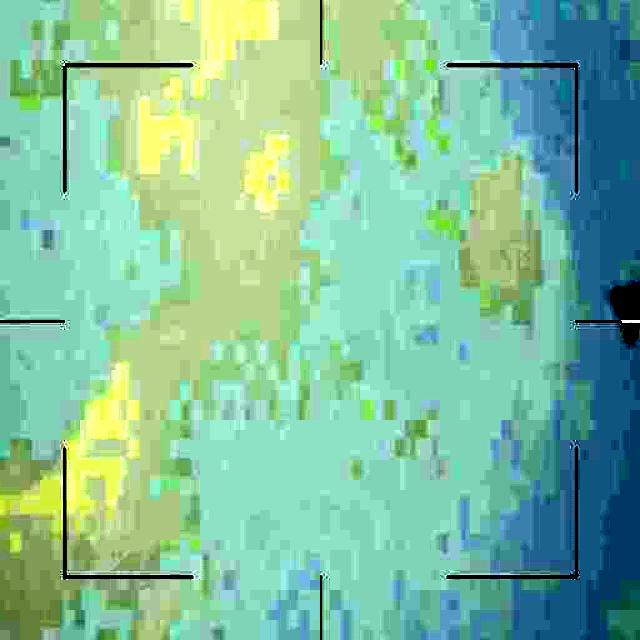bird: (610, 266, 640, 348)
